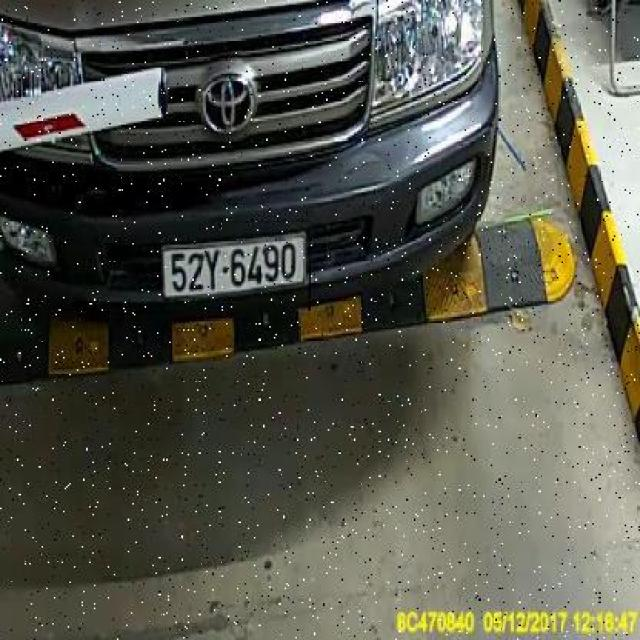number_plate: (157, 220, 311, 311)
